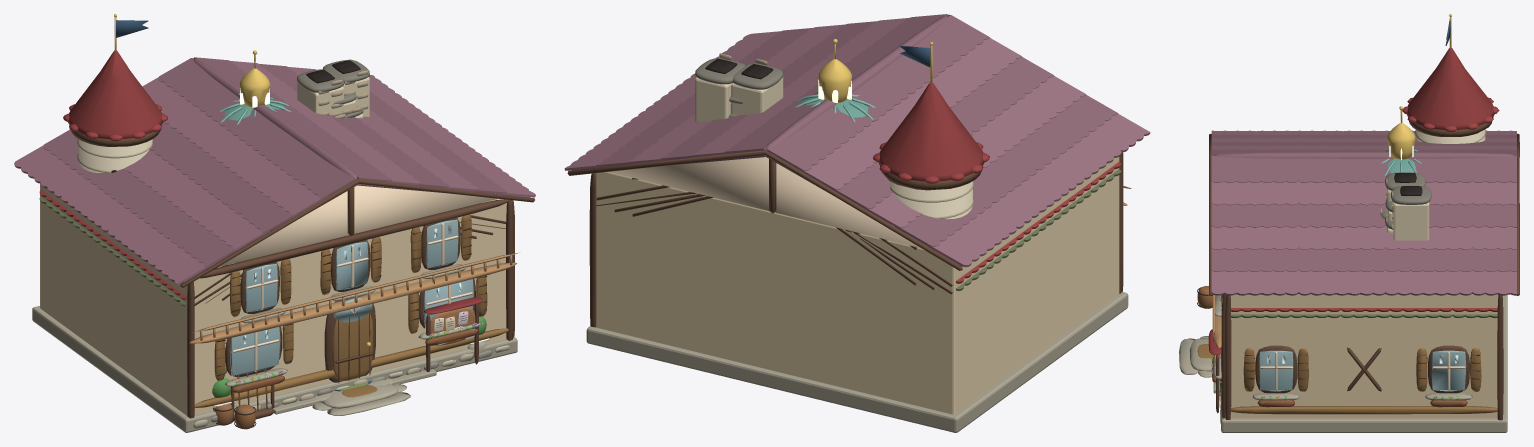
File: granja_edificios.glb
3 renders of one model, left to right at view 1: azimuth 30°, elevation 25°; view 2: azimuth 150°, elevation 25°; view 3: azimuth 270°, elevation 25°, orthographic. The views are drawn at different scales.
Parts seen in each view (by area): view 1: paredes.005, tejas -11.005, tablado -1.005, esquinero -4.94, franja lado.005, escalón bajo.005, frontón atrás.005, arco puerta.005, tablado -1.012, balaustre 0, tabla borde atrás-1.005, torre (+11 smaller); view 2: paredes.005, tablado -1.005, tejas -11.005, escalón bajo.005, frontón atrás.005, tablado -1.012, tabla borde atrás-1.005, esquinero -4.94, torre, cumbrera.005, teja torre 0, chimenea.004 (+8 smaller); view 3: paredes.005, tablado -1.005, tejas -11.005, escalón bajo.005, tablado -1.012, esquinero -4.94, franja lado.005, arco puerta.005, cumbrera.005, teja torre 0, chimenea.004, tejas -11.002 (+9 smaller).
Boxes of the visible parts, <box> form: paredes.005: <box>40,183,506,415</box>; tejas -11.005: <box>14,61,535,285</box>; tablado -1.005: <box>43,57,530,282</box>; esquinero -4.94: <box>187,187,514,418</box>; franja lado.005: <box>194,214,508,407</box>; escalón bajo.005: <box>32,264,517,432</box>; frontón atrás.005: <box>219,185,497,371</box>; arco puerta.005: <box>230,219,473,375</box>; tablado -1.012: <box>68,50,482,314</box>; balaustre 0: <box>189,252,519,343</box>; tabla borde atrás-1.005: <box>180,58,534,287</box>; torre: <box>78,139,152,172</box>; paredes.005: <box>595,157,1119,414</box>; tablado -1.005: <box>573,14,1118,265</box>; tejas -11.005: <box>564,18,1150,267</box>; escalón bajo.005: <box>586,292,1128,432</box>; frontón atrás.005: <box>608,157,920,247</box>; tablado -1.012: <box>878,82,984,181</box>; tabla borde atrás-1.005: <box>567,14,962,270</box>; esquinero -4.94: <box>589,152,1123,327</box>; torre: <box>890,181,972,219</box>; cumbrera.005: <box>765,16,948,150</box>; teja torre 0: <box>873,142,1121,283</box>; chimenea.004: <box>695,77,731,121</box>; paredes.005: <box>1230,294,1498,418</box>; tablado -1.005: <box>1211,134,1516,271</box>; tejas -11.005: <box>1211,130,1516,295</box>; escalón bajo.005: <box>1179,295,1507,432</box>; tablado -1.012: <box>1208,48,1494,354</box>; esquinero -4.94: <box>1221,293,1503,420</box>; franja lado.005: <box>1220,295,1497,414</box>; arco puerta.005: <box>1221,295,1466,391</box>; cumbrera.005: <box>1214,152,1514,158</box>; teja torre 0: <box>1231,97,1499,311</box>; chimenea.004: <box>1393,202,1429,240</box>; tejas -11.002: <box>1231,314,1497,318</box>.
Size of the model in its own units: 11.19 by 9.37 by 9.87.
